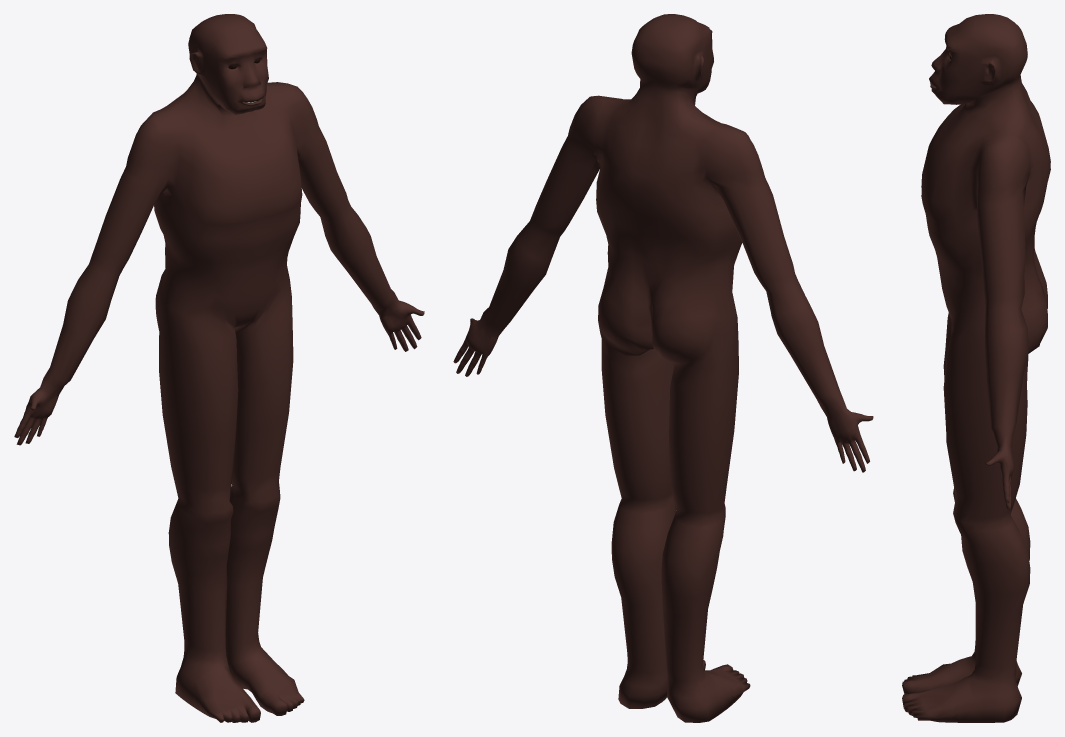
File: turkana.glb
3 renders of one model, left to right at view 1: azimuth 30°, elevation 25°; view 2: azimuth 150°, elevation 25°; view 3: azimuth 270°, elevation 25°, orthographic. The views are drawn at different scales.
Visible parts, largest first — view 1: Body; view 2: Body; view 3: Body.
Part boxes in pixels (left/top/right/bottom): Body: left=14, top=14, right=424, bottom=722; Body: left=453, top=14, right=873, bottom=722; Body: left=902, top=14, right=1050, bottom=722.
Size of the model in its own units: 1.01 by 1.59 by 0.315.
